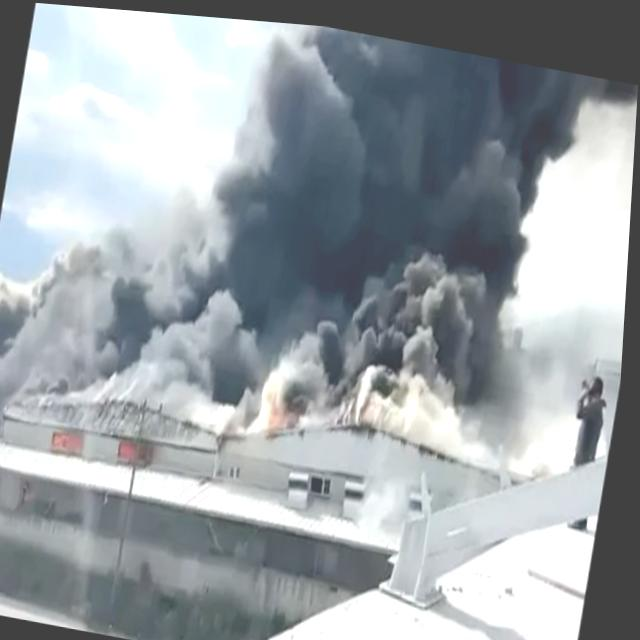Smoke: (0, 0, 640, 464)
